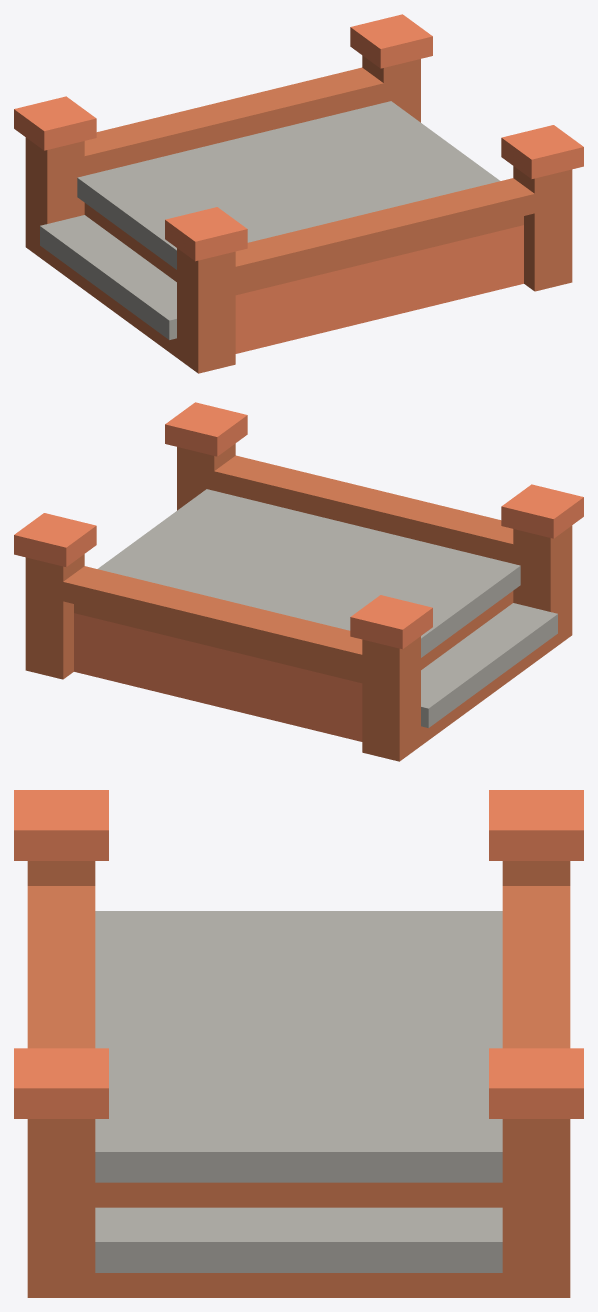
Rendered from bridge_woodNarrow.glb.
The picture shows the model from 3 angles, top to bottom: view 1: azimuth 30°, elevation 25°; view 2: azimuth 150°, elevation 25°; view 3: azimuth 270°, elevation 25°; orthographic projection. The views are drawn at different scales.
Parts seen in each view (by area): view 1: bridge_woodNarrow; view 2: bridge_woodNarrow; view 3: bridge_woodNarrow.
Part boxes in pixels (bbox=[...]): bridge_woodNarrow: bbox=[14, 14, 583, 373]; bridge_woodNarrow: bbox=[14, 402, 583, 761]; bridge_woodNarrow: bbox=[14, 790, 583, 1297].
Bounding box in the file's own units: 1.04 × 0.35 × 0.84.
